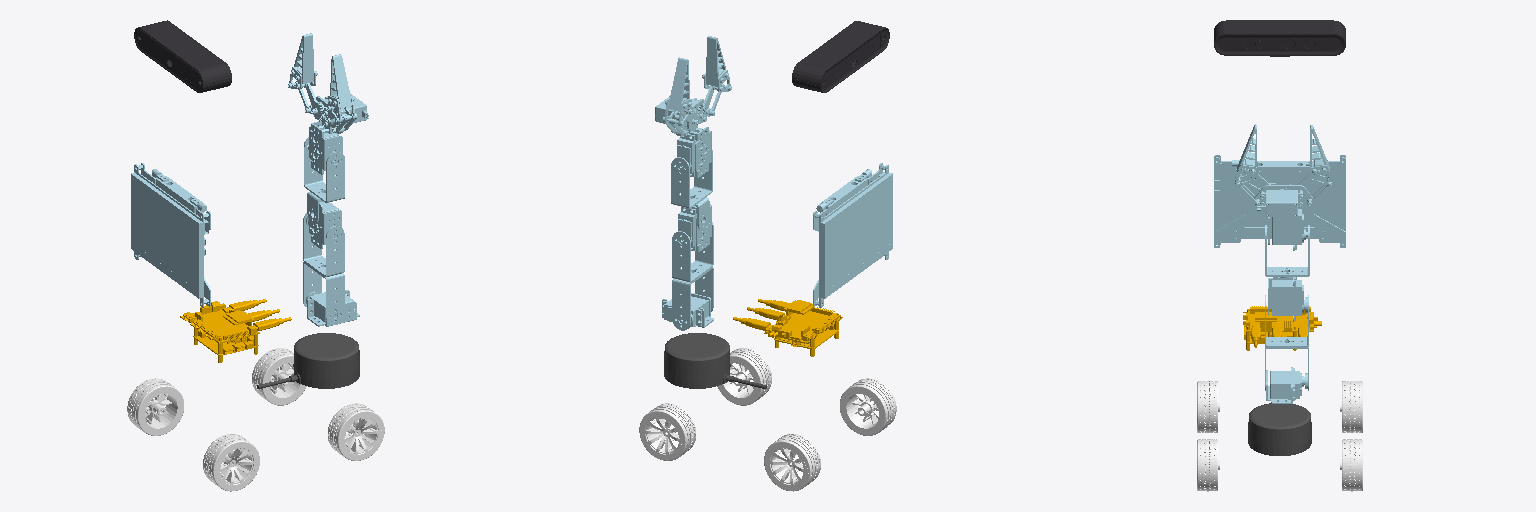
--- Render facts (derived) ---
3 views of the same robot in one strip: view 1: azimuth 30°, elevation 25°; view 2: azimuth 150°, elevation 25°; view 3: azimuth 270°, elevation 25° (orthographic).
Model mini_4wd_moveit_four with 19 links and 18 joints (9 revolute, 4 continuous, 5 fixed), rooted at base_link, posed all joints at 0.
Visible links, largest first — view 1: display_link, camera_link, controller_link, laser_link, j1_link, j2_link, rb_wheel_link, rf_wheel_link, lb_wheel_link, lf_wheel_link, j3_link, j4_6_link (+2 smaller); view 2: display_link, camera_link, laser_link, controller_link, j1_link, j2_link, lb_wheel_link, lf_wheel_link, rb_wheel_link, rf_wheel_link, j3_link, j4_3_link (+2 smaller); view 3: display_link, camera_link, laser_link, j3_link, j2_link, controller_link, arm_base_link, lf_wheel_link, rf_wheel_link, lb_wheel_link, rb_wheel_link, j4_3_link (+2 smaller).
Boxes of the visible links, bbox=[...] form: display_link: bbox=[131, 163, 210, 307]; camera_link: bbox=[134, 20, 231, 92]; controller_link: bbox=[180, 299, 291, 362]; laser_link: bbox=[257, 333, 359, 388]; j1_link: bbox=[303, 213, 344, 324]; j2_link: bbox=[304, 137, 344, 248]; rb_wheel_link: bbox=[203, 434, 259, 491]; rf_wheel_link: bbox=[328, 403, 384, 460]; lb_wheel_link: bbox=[127, 378, 183, 435]; lf_wheel_link: bbox=[252, 348, 306, 405]; j3_link: bbox=[308, 93, 368, 174]; j4_6_link: bbox=[327, 54, 357, 122]; display_link: bbox=[813, 163, 892, 307]; camera_link: bbox=[792, 21, 889, 92]; laser_link: bbox=[664, 333, 766, 388]; controller_link: bbox=[733, 299, 842, 356]; j1_link: bbox=[672, 222, 713, 330]; j2_link: bbox=[671, 150, 712, 251]; lb_wheel_link: bbox=[764, 434, 820, 491]; lf_wheel_link: bbox=[639, 403, 695, 460]; rb_wheel_link: bbox=[840, 378, 896, 435]; rf_wheel_link: bbox=[717, 348, 771, 405]; j3_link: bbox=[655, 96, 711, 177]; j4_3_link: bbox=[662, 57, 692, 126]; display_link: bbox=[1214, 155, 1345, 247]; camera_link: bbox=[1214, 20, 1345, 56]; laser_link: bbox=[1248, 403, 1311, 455]; j3_link: bbox=[1254, 185, 1312, 250]; j2_link: bbox=[1265, 225, 1309, 321]; controller_link: bbox=[1243, 306, 1321, 350]; arm_base_link: bbox=[1266, 367, 1303, 403]; lf_wheel_link: bbox=[1340, 439, 1362, 491]; rf_wheel_link: bbox=[1197, 439, 1219, 491]; lb_wheel_link: bbox=[1340, 381, 1362, 432]; rb_wheel_link: bbox=[1197, 381, 1219, 432]; j4_3_link: bbox=[1310, 125, 1332, 186].
Size in the robot's own frame: 0.2686 by 0.207 by 0.5492 metres.
18 mesh visuals loaded from 19 distinct referenced files (18 binary STL); not drawn: 1 (reference not matched to a file when rendering).

URDF robot description (mini_4wd_moveit_four):
<?xml version="1.0" encoding="utf-8"?>
<!-- This URDF was automatically created by SolidWorks to URDF Exporter! Originally created by Stephen Brawner ([email redacted]) 
     Commit Version: 1.6.0-4-g7f85cfe  Build Version: 1.6.7995.38578
     For more information, please see http://wiki.ros.org/sw_urdf_exporter -->
<robot
  name="mini_4wd_moveit_four">
  <link
    name="base_link">
    <inertial>
      <origin
        xyz="-0.0290364248372724 -0.015964930424272 0.044201812082744"
        rpy="0 0 0" />
      <mass
        value="0.774518840816222" />
      <inertia
        ixx="0.000964056828022078"
        ixy="-1.71310718484615E-06"
        ixz="-5.31836315890223E-07"
        iyy="0.00118400574111218"
        iyz="-2.60882055959258E-07"
        izz="0.00119164047260363" />
    </inertial>
    <visual>
      <origin
        xyz="0 0 0"
        rpy="0 0 0" />
      <geometry>
        <mesh
          filename="package://wheeltec_robot_urdf/meshes/mini_4wd_moveit_four_meshes/base_link.STL" />
      </geometry>
      <material
        name="">
        <color
          rgba="1 1 1 1" />
      </material>
    </visual>
    <collision>
      <origin
        xyz="0 0 0"
        rpy="0 0 0" />
      <geometry>
        <mesh
          filename="package://wheeltec_robot_urdf/meshes/mini_4wd_moveit_four_meshes/base_link.STL" />
      </geometry>
    </collision>
  </link>
  <link
    name="display_link">
    <inertial>
      <origin
        xyz="0.0029477483707252 9.53932521219671E-05 0.00486680493940836"
        rpy="0 0 0" />
      <mass
        value="0.151705739204605" />
      <inertia
        ixx="0.000430165036510399"
        ixy="-6.64530216707242E-09"
        ixz="1.01759362187795E-07"
        iyy="0.00012011199382813"
        iyz="-3.0155250093107E-09"
        izz="0.000311579060381968" />
    </inertial>
    <visual>
      <origin
        xyz="0 0 0"
        rpy="0 0 0" />
      <geometry>
        <mesh
          filename="package://wheeltec_robot_urdf/meshes/mini_4wd_moveit_four_meshes/display_link.STL" />
      </geometry>
      <material
        name="">
        <color
          rgba="0.741176470588235 0.901960784313726 0.956862745098039 1" />
      </material>
    </visual>
    <collision>
      <origin
        xyz="0 0 0"
        rpy="0 0 0" />
      <geometry>
        <mesh
          filename="package://wheeltec_robot_urdf/meshes/mini_4wd_moveit_four_meshes/display_link.STL" />
      </geometry>
    </collision>
  </link>
  <joint
    name="display__joint"
    type="fixed">
    <origin
      xyz="-0.12884031321703 -0.000306907291961278 0.234556"
      rpy="0 0 0" />
    <parent
      link="base_link" />
    <child
      link="display_link" />
    <axis
      xyz="0 0 0" />
  </joint>
  <link
    name="camera_link">
    <inertial>
      <origin
        xyz="1.92173060548084E-07 2.71554426719986E-07 -1.33183317430063E-07"
        rpy="0 0 0" />
      <mass
        value="0.0467968467333414" />
      <inertia
        ixx="0.000124054724896286"
        ixy="1.14786700383964E-07"
        ixz="9.32111436888638E-08"
        iyy="1.46824987014172E-05"
        iyz="-1.36960393047004E-08"
        izz="0.000126757573275727" />
    </inertial>
    <visual>
      <origin
        xyz="0 0 0"
        rpy="0 0 0" />
      <geometry>
        <mesh
          filename="package://wheeltec_robot_urdf/meshes/mini_4wd_moveit_four_meshes/camera_link.STL" />
      </geometry>
      <material
        name="">
        <color
          rgba="0.266666666666667 0.254901960784314 0.274509803921569 1" />
      </material>
    </visual>
    <collision>
      <origin
        xyz="0 0 0"
        rpy="0 0 0" />
      <geometry>
        <mesh
          filename="package://wheeltec_robot_urdf/meshes/mini_4wd_moveit_four_meshes/camera_link.STL" />
      </geometry>
    </collision>
  </link>
  <joint
    name="camera_joint"
    type="fixed">
    <origin
      xyz="-0.10712931321703 0.000182092708038664 0.465042"
      rpy="0 0 0" />
    <parent
      link="base_link" />
    <child
      link="camera_link" />
    <axis
      xyz="0 0 0" />
  </joint>
  <link
    name="lf_wheel_link">
    <inertial>
      <origin
        xyz="-2.09793342185061E-07 -0.000230156804615342 3.98589239079816E-07"
        rpy="0 0 0" />
      <mass
        value="0.0416555348453766" />
      <inertia
        ixx="1.72075812201947E-05"
        ixy="2.03332109619888E-09"
        ixz="2.4495470746032E-09"
        iyy="2.97189914180361E-05"
        iyz="-2.52115144628949E-11"
        izz="1.72243556527751E-05" />
    </inertial>
    <visual>
      <origin
        xyz="0 0 0"
        rpy="0 0 0" />
      <geometry>
        <mesh
          filename="package://wheeltec_robot_urdf/meshes/mini_4wd_moveit_four_meshes/lf_wheel_link.STL" />
      </geometry>
      <material
        name="">
        <color
          rgba="1 1 1 1" />
      </material>
    </visual>
    <collision>
      <origin
        xyz="0 0 0"
        rpy="0 0 0" />
      <geometry>
        <mesh
          filename="package://wheeltec_robot_urdf/meshes/mini_4wd_moveit_four_meshes/lf_wheel_link.STL" />
      </geometry>
    </collision>
  </link>
  <joint
    name="lf_wheel_joint"
    type="continuous">
    <origin
      xyz="0.0788866867829701 0.090902092708038 -0.0363"
      rpy="0 0 0" />
    <parent
      link="base_link" />
    <child
      link="lf_wheel_link" />
    <axis
      xyz="0 -1 0" />
  </joint>
  <link
    name="lb_wheel_link">
    <inertial>
      <origin
        xyz="-2.05433546202061E-07 -0.000230160990758552 4.13109727613603E-07"
        rpy="0 0 0" />
      <mass
        value="0.0416555088979668" />
      <inertia
        ixx="1.72075649199581E-05"
        ixy="2.03202603706101E-09"
        ixz="2.45384259704321E-09"
        iyy="2.97189752068223E-05"
        iyz="-2.97145660151937E-11"
        izz="1.72243530396308E-05" />
    </inertial>
    <visual>
      <origin
        xyz="0 0 0"
        rpy="0 0 0" />
      <geometry>
        <mesh
          filename="package://wheeltec_robot_urdf/meshes/mini_4wd_moveit_four_meshes/lb_wheel_link.STL" />
      </geometry>
      <material
        name="">
        <color
          rgba="1 1 1 1" />
      </material>
    </visual>
    <collision>
      <origin
        xyz="0 0 0"
        rpy="0 0 0" />
      <geometry>
        <mesh
          filename="package://wheeltec_robot_urdf/meshes/mini_4wd_moveit_four_meshes/lb_wheel_link.STL" />
      </geometry>
    </collision>
  </link>
  <joint
    name="lb_wheel_joint"
    type="continuous">
    <origin
      xyz="-0.0930133132170299 0.0909020927080386 -0.0363"
      rpy="0 0 0" />
    <parent
      link="base_link" />
    <child
      link="lb_wheel_link" />
    <axis
      xyz="0 -1 0" />
  </joint>
  <link
    name="rb_wheel_link">
    <inertial>
      <origin
        xyz="2.09683713336961E-07 0.000230156784903374 3.98749897101425E-07"
        rpy="0 0 0" />
      <mass
        value="0.0416555349543038" />
      <inertia
        ixx="1.72075810469862E-05"
        ixy="2.033307104602E-09"
        ixz="-2.44946932899939E-09"
        iyy="2.97189914559539E-05"
        iyz="2.52237763992251E-11"
        izz="1.72243558742924E-05" />
    </inertial>
    <visual>
      <origin
        xyz="0 0 0"
        rpy="0 0 0" />
      <geometry>
        <mesh
          filename="package://wheeltec_robot_urdf/meshes/mini_4wd_moveit_four_meshes/rb_wheel_link.STL" />
      </geometry>
      <material
        name="">
        <color
          rgba="1 1 1 1" />
      </material>
    </visual>
    <collision>
      <origin
        xyz="0 0 0"
        rpy="0 0 0" />
      <geometry>
        <mesh
          filename="package://wheeltec_robot_urdf/meshes/mini_4wd_moveit_four_meshes/rb_wheel_link.STL" />
      </geometry>
    </collision>
  </link>
  <joint
    name="rb_wheel_joint"
    type="continuous">
    <origin
      xyz="-0.0930053132170305 -0.0907239072919614 -0.0363"
      rpy="0 0 0" />
    <parent
      link="base_link" />
    <child
      link="rb_wheel_link" />
    <axis
      xyz="0 1 0" />
  </joint>
  <link
    name="rf_wheel_link">
    <inertial>
      <origin
        xyz="2.05435885579559E-07 0.000230161010309024 4.1311430094837E-07"
        rpy="0 0 0" />
      <mass
        value="0.0416555087816593" />
      <inertia
        ixx="1.72075647655489E-05"
        ixy="2.03204372617738E-09"
        ixz="-2.45387800489065E-09"
        iyy="2.97189750420175E-05"
        iyz="2.97155637519988E-11"
        izz="1.72243530101614E-05" />
    </inertial>
    <visual>
      <origin
        xyz="0 0 0"
        rpy="0 0 0" />
      <geometry>
        <mesh
          filename="package://wheeltec_robot_urdf/meshes/mini_4wd_moveit_four_meshes/rf_wheel_link.STL" />
      </geometry>
      <material
        name="">
        <color
          rgba="1 1 1 1" />
      </material>
    </visual>
    <collision>
      <origin
        xyz="0 0 0"
        rpy="0 0 0" />
      <geometry>
        <mesh
          filename="package://wheeltec_robot_urdf/meshes/mini_4wd_moveit_four_meshes/rf_wheel_link.STL" />
      </geometry>
    </collision>
  </link>
  <joint
    name="rf_wheel_joint"
    type="continuous">
    <origin
      xyz="0.0788946867829695 -0.090723907291962 -0.0363"
      rpy="0 0 0" />
    <parent
      link="base_link" />
    <child
      link="rf_wheel_link" />
    <axis
      xyz="0 1 0" />
  </joint>
  <link
    name="controller_link">
    <inertial>
      <origin
        xyz="-0.0153202309343642 0.0364072897050282 0.0252489862343938"
        rpy="0 0 0" />
      <mass
        value="0.0386298604939844" />
      <inertia
        ixx="2.20171985391327E-05"
        ixy="1.25708118727772E-06"
        ixz="-1.18411165982165E-07"
        iyy="2.40619422694007E-05"
        iyz="4.00646980395019E-07"
        izz="4.5104828922749E-05" />
    </inertial>
    <visual>
      <origin
        xyz="0 0 0"
        rpy="0 0 0" />
      <geometry>
        <mesh
          filename="package://wheeltec_robot_urdf/meshes/mini_4wd_moveit_four_meshes/controller_link.STL" />
      </geometry>
      <material
        name="">
        <color
          rgba="1 0.737254901960784 0 1" />
      </material>
    </visual>
    <collision>
      <origin
        xyz="0 0 0"
        rpy="0 0 0" />
      <geometry>
        <mesh
          filename="package://wheeltec_robot_urdf/meshes/mini_4wd_moveit_four_meshes/controller_link.STL" />
      </geometry>
    </collision>
  </link>
  <joint
    name="controller_joint"
    type="fixed">
    <origin
      xyz="-0.027713924223503 -0.040735803599292 0.0719999764122504"
      rpy="0 0 0" />
    <parent
      link="base_link" />
    <child
      link="controller_link" />
    <axis
      xyz="0 0 0" />
  </joint>
  <link
    name="laser_link">
    <inertial>
      <origin
        xyz="0.00250630311379699 -4.56584138454895E-06 0.00608265171345093"
        rpy="0 0 0" />
      <mass
        value="0.0374307357752242" />
      <inertia
        ixx="2.80476450253966E-05"
        ixy="-2.19900368929544E-09"
        ixz="1.07118438656851E-06"
        iyy="3.36164872395303E-05"
        iyz="6.83963484251181E-10"
        izz="4.50845485892844E-05" />
    </inertial>
    <visual>
      <origin
        xyz="0 0 0"
        rpy="0 0 0" />
      <geometry>
        <mesh
          filename="package://wheeltec_robot_urdf/meshes/mini_4wd_moveit_four_meshes/laser.STL" />
      </geometry>
      <material
        name="">
        <color
          rgba="0.376470588235294 0.376470588235294 0.376470588235294 1" />
      </material>
    </visual>
    <collision>
      <origin
        xyz="0 0 0"
        rpy="0 0 0" />
      <geometry>
        <mesh
          filename="package://wheeltec_robot_urdf/meshes/mini_4wd_moveit_four_meshes/laser.STL" />
      </geometry>
    </collision>
  </link>
  <joint
    name="laser_joint"
    type="fixed">
    <origin
      xyz="0.0903982522908868 8.90927067649963E-05 0.011024183741431"
      rpy="0 0 3.14159265358979" />
    <parent
      link="base_link" />
    <child
      link="laser_link" />
    <axis
      xyz="0 0 0" />
  </joint>
  <link
    name="arm_base_link">
    <inertial>
      <origin
        xyz="-0.000199500251190279 0.00484632807246536 0.010410896975763"
        rpy="0 0 0" />
      <mass
        value="0.038029914699691" />
      <inertia
        ixx="6.59286998207162E-06"
        ixy="1.52166973047933E-07"
        ixz="-6.11635522667385E-11"
        iyy="7.36864724408771E-06"
        iyz="1.45081779343015E-07"
        izz="1.12027270721149E-05" />
    </inertial>
    <visual>
      <origin
        xyz="0 0 0"
        rpy="0 0 0" />
      <geometry>
        <mesh
          filename="package://wheeltec_robot_urdf/meshes/mini_4wd_moveit_four_meshes/arm_base_link.STL" />
      </geometry>
      <material
        name="">
        <color
          rgba="0.741176470588235 0.901960784313726 0.956862745098039 1" />
      </material>
    </visual>
    <collision>
      <origin
        xyz="0 0 0"
        rpy="0 0 0" />
      <geometry>
        <mesh
          filename="package://wheeltec_robot_urdf/meshes/mini_4wd_moveit_four_meshes/arm_base_link.STL" />
      </geometry>
    </collision>
  </link>
  <joint
    name="arm_base_joint"
    type="fixed">
    <origin
      xyz="0.10149068678574 0.00147217988274247 0.0740000000000003"
      rpy="0 0 0" />
    <parent
      link="base_link" />
    <child
      link="arm_base_link" />
    <axis
      xyz="0 0 0" />
    <limit
      effort="5000"
      velocity="0" />
  </joint>
  <link
    name="j1_link">
    <inertial>
      <origin
        xyz="-1.94289029309402E-16 -0.0496519077290491 -0.0237858190346654"
        rpy="0 0 0" />
      <mass
        value="0.0173546467959671" />
      <inertia
        ixx="1.62161311115798E-05"
        ixy="-2.09488369559453E-20"
        ixz="-7.01088944732893E-21"
        iyy="1.04896423510421E-05"
        iyz="-3.28152897099786E-20"
        izz="7.52372716212686E-06" />
    </inertial>
    <visual>
      <origin
        xyz="0 0 0"
        rpy="0 0 0" />
      <geometry>
        <mesh
          filename="package://wheeltec_robot_urdf/meshes/mini_4wd_moveit_four_meshes/j1_link.STL" />
      </geometry>
      <material
        name="">
        <color
          rgba="0.741176470588235 0.901960784313726 0.956862745098039 1" />
      </material>
    </visual>
    <collision>
      <origin
        xyz="0 0 0"
        rpy="0 0 0" />
      <geometry>
        <mesh
          filename="package://wheeltec_robot_urdf/meshes/mini_4wd_moveit_four_meshes/j1_link.STL" />
      </geometry>
    </collision>
  </link>
  <joint
    name="j1_joint"
    type="revolute">
    <origin
      xyz="-0.00999999999999986 0.0323993018128468 0.0114999999999992"
      rpy="-1.5707963267949 0 0" />
    <parent
      link="arm_base_link" />
    <child
      link="j1_link" />
    <axis
      xyz="0 0 -1" />
    <limit
      lower="-0.785"
      upper="0.785"
      effort="100"
      velocity="0" />
  </joint>
  <link
    name="j2_link">
    <inertial>
      <origin
        xyz="-0.00114290586966832 -0.0203057136397976 -0.0277794376874351"
        rpy="0 0 0" />
      <mass
        value="0.0497610150256722" />
      <inertia
        ixx="1.97699131876004E-05"
        ixy="1.29484660544386E-07"
        ixz="1.45081779343099E-07"
        iyy="1.21511693273601E-05"
        iyz="-1.52071961891754E-07"
        izz="1.16329572702907E-05" />
    </inertial>
    <visual>
      <origin
        xyz="0 0 0"
        rpy="0 0 0" />
      <geometry>
        <mesh
          filename="package://wheeltec_robot_urdf/meshes/mini_4wd_moveit_four_meshes/j2_link.STL" />
      </geometry>
      <material
        name="">
        <color
          rgba="0.741176470588235 0.901960784313726 0.956862745098039 1" />
      </material>
    </visual>
    <collision>
      <origin
        xyz="0 0 0"
        rpy="0 0 0" />
      <geometry>
        <mesh
          filename="package://wheeltec_robot_urdf/meshes/mini_4wd_moveit_four_meshes/j2_link.STL" />
      </geometry>
    </collision>
  </link>
  <joint
    name="j2_joint"
    type="revolute">
    <origin
      xyz="0 -0.105 0.0029000000000042"
      rpy="0 0 0" />
    <parent
      link="j1_link" />
    <child
      link="j2_link" />
    <axis
      xyz="0 0 1" />
    <limit
      lower="-0.785"
      upper="0.785"
      effort="100"
      velocity="0" />
  </joint>
  <link
    name="j3_link">
    <inertial>
      <origin
        xyz="0.00962998237691696 -0.0316819645001538 -0.0316011877779844"
        rpy="0 0 0" />
      <mass
        value="0.0761577620891414" />
      <inertia
        ixx="1.87944711647181E-05"
        ixy="7.13632952673082E-11"
        ixz="1.43436287785093E-07"
        iyy="1.68821145204493E-05"
        iyz="-1.41803488592543E-07"
        izz="1.29503517371325E-05" />
    </inertial>
    <visual>
      <origin
        xyz="0 0 0"
        rpy="0 0 0" />
      <geometry>
        <mesh
          filename="package://wheeltec_robot_urdf/meshes/mini_4wd_moveit_four_meshes/j3_link.STL" />
      </geometry>
      <material
        name="">
        <color
          rgba="0.741176470588235 0.901960784313726 0.956862745098039 1" />
      </material>
    </visual>
    <collision>
      <origin
        xyz="0 0 0"
        rpy="0 0 0" />
      <geometry>
        <mesh
          filename="package://wheeltec_robot_urdf/meshes/mini_4wd_moveit_four_meshes/j3_link.STL" />
      </geometry>
    </collision>
  </link>
  <joint
    name="j3_joint"
    type="revolute">
    <origin
      xyz="0.00099999999999984 -0.0974999999999999 0.000500000000001243"
      rpy="0 0 0" />
    <parent
      link="j2_link" />
    <child
      link="j3_link" />
    <axis
      xyz="0 0 1" />
    <limit
      lower="-0.785"
      upper="0.785"
      effort="100"
      velocity="0" />
  </joint>
  <link
    name="j4_1_link">
    <inertial>
      <origin
        xyz="-0.00545595638158114 0.00480827879119344 0.00155236343159748"
        rpy="0 0 0" />
      <mass
        value="0.0023208621932576" />
      <inertia
        ixx="2.09565695935598E-07"
        ixy="1.51745831304805E-07"
        ixz="-5.84071317264617E-23"
        iyy="1.97492941338208E-07"
        iyz="6.49804296507228E-21"
        izz="4.03559764000689E-07" />
    </inertial>
    <visual>
      <origin
        xyz="0 0 0"
        rpy="0 0 0" />
      <geometry>
        <mesh
          filename="package://wheeltec_robot_urdf/meshes/mini_4wd_moveit_four_meshes/j4_1_link.STL" />
      </geometry>
      <material
        name="">
        <color
          rgba="0.741176470588235 0.901960784313726 0.956862745098039 1" />
      </material>
    </visual>
    <collision>
      <origin
        xyz="0 0 0"
        rpy="0 0 0" />
      <geometry>
        <mesh
          filename="package://wheeltec_robot_urdf/meshes/mini_4wd_moveit_four_meshes/j4_1_link.STL" />
      </geometry>
    </collision>
  </link>
  <joint
    name="j4_1_joint"
    type="revolute">
    <origin
      xyz="-0.00650000000000135 -0.0540000000000189 -0.0199999999999771"
      rpy="1.5707963267949 0 1.5707963267949" />
    <parent
      link="j3_link" />
    <child
      link="j4_1_link" />
    <axis
      xyz="0 0 1" />
    <limit
      lower="-0.785"
      upper="0.785"
      effort="100"
      velocity="0" />
  </joint>
  <link
    name="j4_3_link">
    <inertial>
      <origin
        xyz="-0.0195062828023856 0.00602946460313561 0.000975336938113379"
        rpy="0 0 0" />
      <mass
        value="0.0109927441765398" />
      <inertia
        ixx="7.09017521745113E-07"
        ixy="-3.12169913809396E-07"
        ixz="4.47080018198198E-13"
        iyy="2.26603053200591E-06"
        iyz="6.32729784989934E-14"
        izz="2.5228768229743E-06" />
    </inertial>
    <visual>
      <origin
        xyz="0 0 0"
        rpy="0 0 0" />
      <geometry>
        <mesh
          filename="package://wheeltec_robot_urdf/meshes/mini_4wd_moveit_four_meshes/j4_3_link.STL" />
      </geometry>
      <material
        name="">
        <color
          rgba="0.741176470588235 0.901960784313726 0.956862745098039 1" />
      </material>
    </visual>
    <collision>
      <origin
        xyz="0 0 0"
        rpy="0 0 0" />
      <geometry>
        <mesh
          filename="package://wheeltec_robot_urdf/meshes/mini_4wd_moveit_four_meshes/j4_3_link.STL" />
      </geometry>
    </collision>
  </link>
  <joint
    name="j4_3_joint"
    type="revolute">
    <origin
      xyz="-0.0250231660532002 0.024471231286429 0"
      rpy="0 0 0" />
    <parent
      link="j4_1_link" />
    <child
      link="j4_3_link" />
    <axis
      xyz="0 0 1" />
    <limit
      lower="-0.785"
      upper="0.785"
      effort="100"
      velocity="0" />
  </joint>
  <link
    name="j4_2_link">
    <inertial>
      <origin
        xyz="-0.00792758788489112 0.00869155303808012 0.00399742509848096"
        rpy="0 0 0" />
      <mass
        value="0.00162082922433878" />
      <inertia
        ixx="9.51378765002128E-08"
        ixy="8.30022521497664E-08"
        ixz="-1.42920122407408E-21"
        iyy="9.8840722520615E-08"
        iyz="1.45190653748617E-21"
        izz="1.76077539151753E-07" />
    </inertial>
    <visual>
      <origin
        xyz="0 0 0"
        rpy="0 0 0" />
      <geometry>
        <mesh
          filename="package://wheeltec_robot_urdf/meshes/mini_4wd_moveit_four_meshes/j4_2_link.STL" />
      </geometry>
      <material
        name="">
        <color
          rgba="0.741176470588235 0.901960784313726 0.956862745098039 1" />
      </material>
    </visual>
    <collision>
      <origin
        xyz="0 0 0"
        rpy="0 0 0" />
      <geometry>
        <mesh
          filename="package://wheeltec_robot_urdf/meshes/mini_4wd_moveit_four_meshes/j4_2_link.STL" />
      </geometry>
    </collision>
  </link>
  <joint
    name="j4_2_joint"
    type="revolute">
    <origin
      xyz="-0.00350000000000121 -0.0466465669184957 0.000203391346910144"
      rpy="1.5707963267949 0 1.5707963267949" />
    <parent
      link="j3_link" />
    <child
      link="j4_2_link" />
    <axis
      xyz="0 0 -1" />
    <limit
      lower="-0.785"
      upper="0.785"
      effort="100"
      velocity="0" />
  </joint>
  <link
    name="j4_4_link">
    <inertial>
      <origin
        xyz="0.00421464287575968 0.00356939552957055 0.00227514475316288"
        rpy="0 0 0" />
      <mass
        value="0.00307449011231024" />
      <inertia
        ixx="2.13872485116535E-07"
        ixy="-1.40876829989055E-07"
        ixz="2.70211518818903E-21"
        iyy="2.06574693872327E-07"
        iyz="4.73470762533471E-22"
        izz="4.07830138395685E-07" />
    </inertial>
    <visual>
      <origin
        xyz="0 0 0"
        rpy="0 0 0" />
      <geometry>
        <mesh
          filename="package://wheeltec_robot_urdf/meshes/mini_4wd_moveit_four_meshes/j4_4_link.STL" />
      </geometry>
      <material
        name="">
        <color
          rgba="0.741176470588235 0.901960784313726 0.956862745098039 1" />
      </material>
    </visual>
    <collision>
      <origin
        xyz="0 0 0"
        rpy="0 0 0" />
      <geometry>
        <mesh
          filename="package://wheeltec_robot_urdf/meshes/mini_4wd_moveit_four_meshes/j4_4_link.STL" />
      </geometry>
    </collision>
  </link>
  <joint
    name="j4_4_joint"
    type="revolute">
    <origin
      xyz="-0.00650000000000151 -0.054000000000039 -0.0449999999999875"
      rpy="-1.5707963267949 0 -1.5707963267949" />
    <parent
      link="j3_link" />
    <child
      link="j4_4_link" />
    <axis
      xyz="0 0 1" />
    <limit
      lower="-0.785"
      upper="0.785"
      effort="100"
      velocity="0" />
  </joint>
  <link
    name="j4_6_link">
    <inertial>
      <origin
        xyz="0.0193552201368096 0.00658804624478769 0.000956905921696755"
        rpy="0 0 0" />
      <mass
        value="0.0110869938441036" />
      <inertia
        ixx="7.09396223567136E-07"
        ixy="3.1220771859306E-07"
        ixz="-3.44198244736563E-13"
        iyy="2.26638567960555E-06"
        iyz="3.99343048855515E-14"
        izz="2.52356347882984E-06" />
    </inertial>
    <visual>
      <origin
        xyz="0 0 0"
        rpy="0 0 0" />
      <geometry>
        <mesh
          filename="package://wheeltec_robot_urdf/meshes/mini_4wd_moveit_four_meshes/j4_6_link.STL" />
      </geometry>
      <material
        name="">
        <color
          rgba="0.741176470588235 0.901960784313726 0.956862745098039 1" />
      </material>
    </visual>
    <collision>
      <origin
        xyz="0 0 0"
        rpy="0 0 0" />
      <geometry>
        <mesh
          filename="package://wheeltec_robot_urdf/meshes/mini_4wd_moveit_four_meshes/j4_6_link.STL" />
      </geometry>
    </collision>
  </link>
  <joint
    name="j4_6_joint"
    type="revolute">
    <origin
      xyz="0.0253818801308857 0.0240989659741114 0"
      rpy="0 0 0" />
    <parent
      link="j4_4_link" />
    <child
      link="j4_6_link" />
    <axis
      xyz="0 0 1" />
    <limit
      lower="-0.785"
      upper="0.785"
      effort="100"
      velocity="0" />
  </joint>
  <link
    name="j4_5_link">
    <inertial>
      <origin
        xyz="0.00805509859122183 0.00857351325735546 0.00399742509848081"
        rpy="0 0 0" />
      <mass
        value="0.00162082922433875" />
      <inertia
        ixx="9.26870408637332E-08"
        ixy="-8.29113514522134E-08"
        ixz="1.31354291557982E-21"
        iyy="1.01291558157085E-07"
        iyz="1.29448729472097E-21"
        izz="1.76077539151743E-07" />
    </inertial>
    <visual>
      <origin
        xyz="0 0 0"
        rpy="0 0 0" />
      <geometry>
        <mesh
          filename="package://wheeltec_robot_urdf/meshes/mini_4wd_moveit_four_meshes/j4_5_link.STL" />
      </geometry>
      <material
        name="">
        <color
          rgba="0.741176470588235 0.901960784313726 0.956862745098039 1" />
      </material>
    </visual>
    <collision>
      <origin
        xyz="0 0 0"
        rpy="0 0 0" />
      <geometry>
        <mesh
          filename="package://wheeltec_robot_urdf/meshes/mini_4wd_moveit_four_meshes/j4_5_link.STL" />
      </geometry>
    </collision>
  </link>
  <joint
    name="j4_5_joint"
    type="revolute">
    <origin
      xyz="-0.0035000000000011 -0.0466465669185685 -0.0652033913468869"
      rpy="-1.5707963267949 0 -1.5707963267949" />
    <parent
      link="j3_link" />
    <child
      link="j4_5_link" />
    <axis
      xyz="0 0 -1" />
    <limit
      lower="-0.785"
      upper="0.785"
      effort="100"
      velocity="0" />
  </joint>
</robot>
